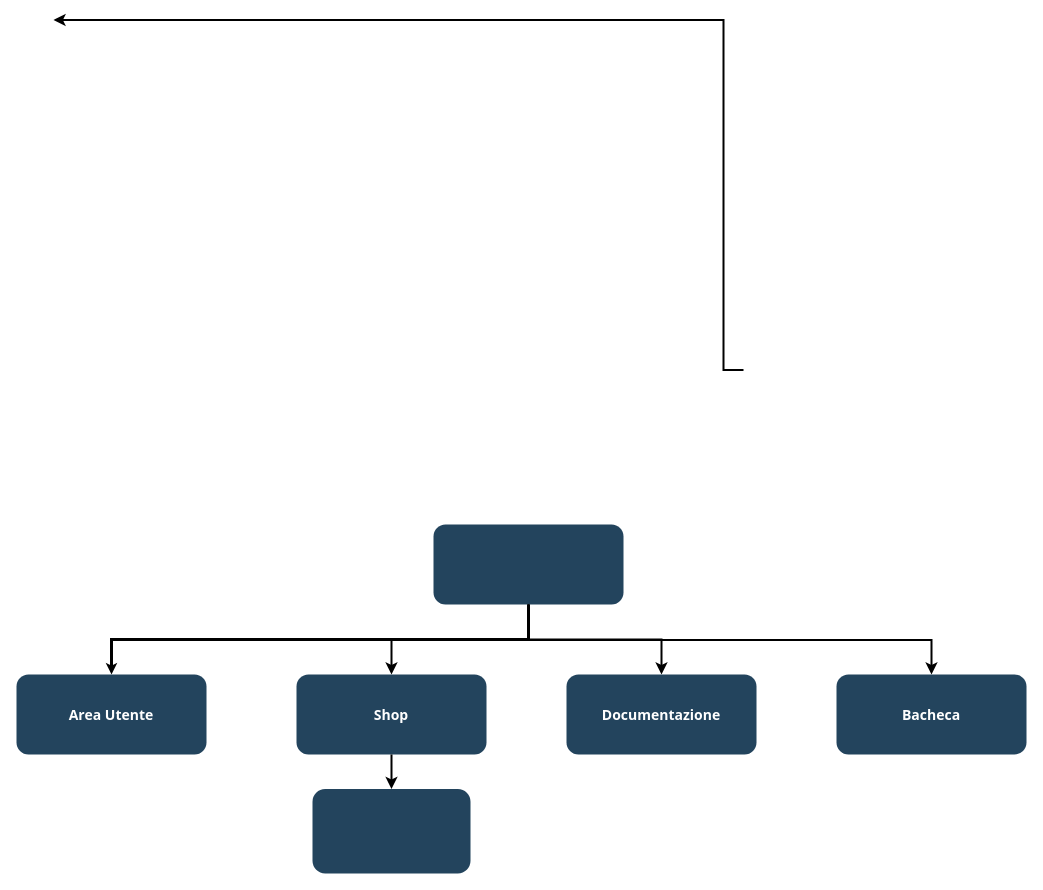
Image size: 1043x890. Some labels were removed from this diagram. The shapes that lost their labels are listed below. From the top down, each one's box as (x1, y1, x2, y2) in pixels, then its label:
(433, 524, 623, 604): Home Page
(312, 788, 470, 873): Prodotto
